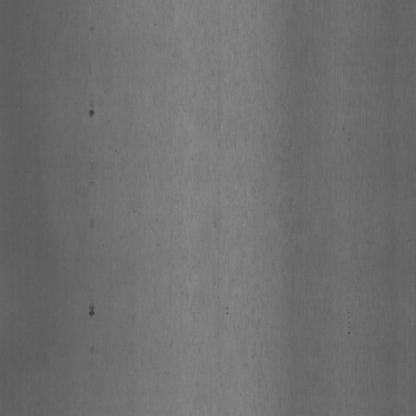oil_spot: (87, 90, 100, 124), (84, 294, 98, 325), (89, 343, 98, 357)
